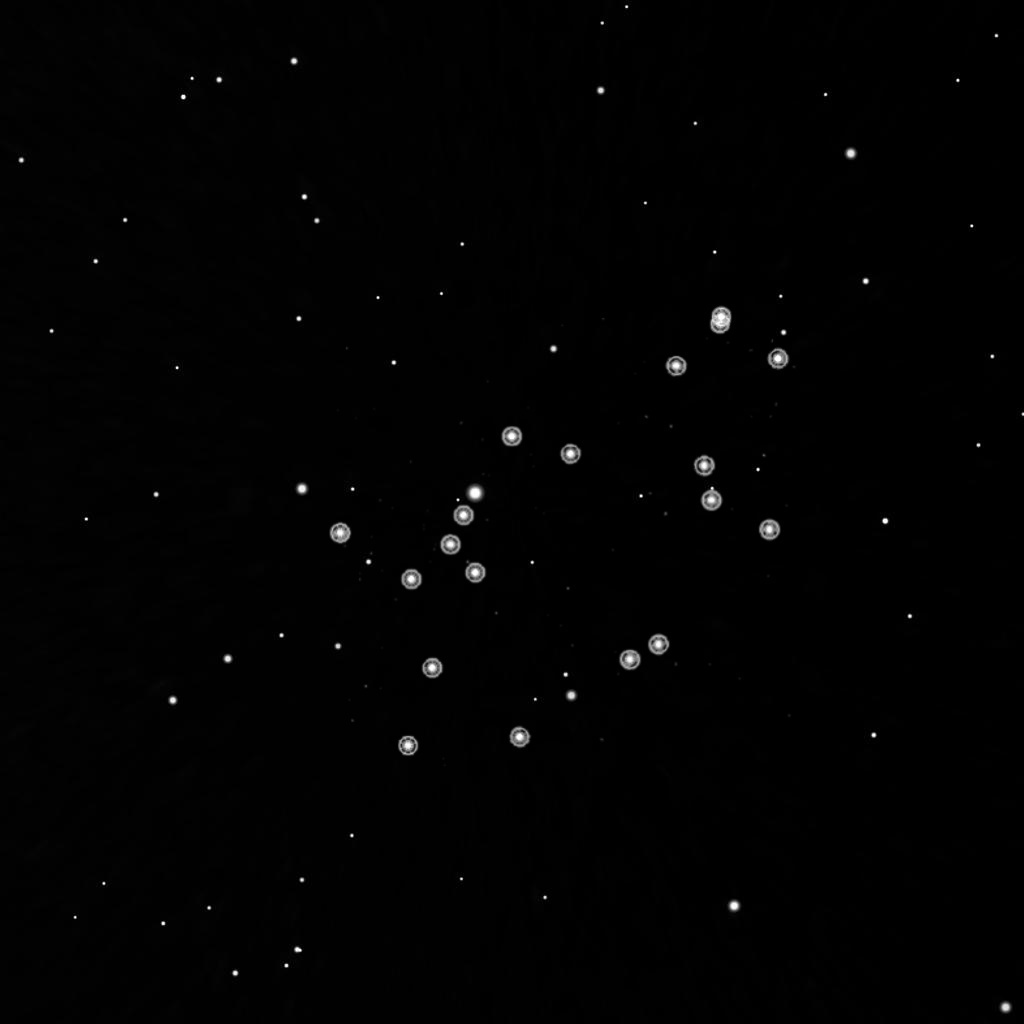canis_major: (393, 421, 585, 602)
